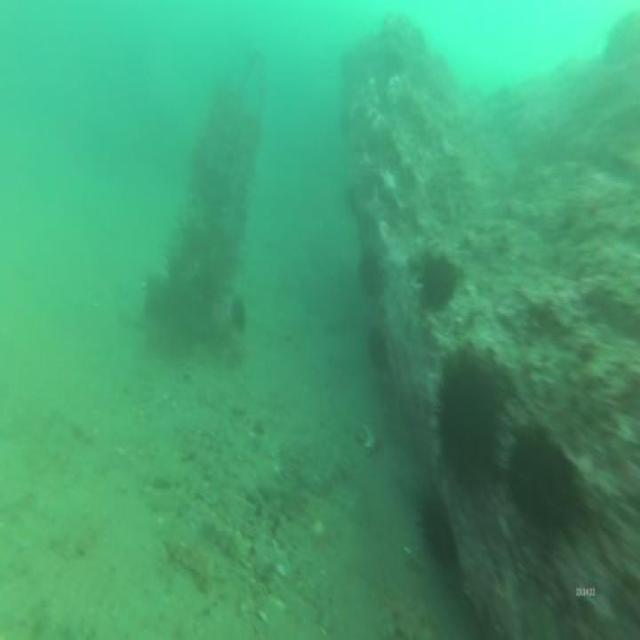echinus: (504, 414, 591, 558), (435, 349, 505, 485), (415, 487, 463, 575), (413, 252, 464, 314), (357, 248, 385, 302), (230, 292, 249, 340)
holothurian: (196, 508, 257, 570), (165, 533, 212, 591)
